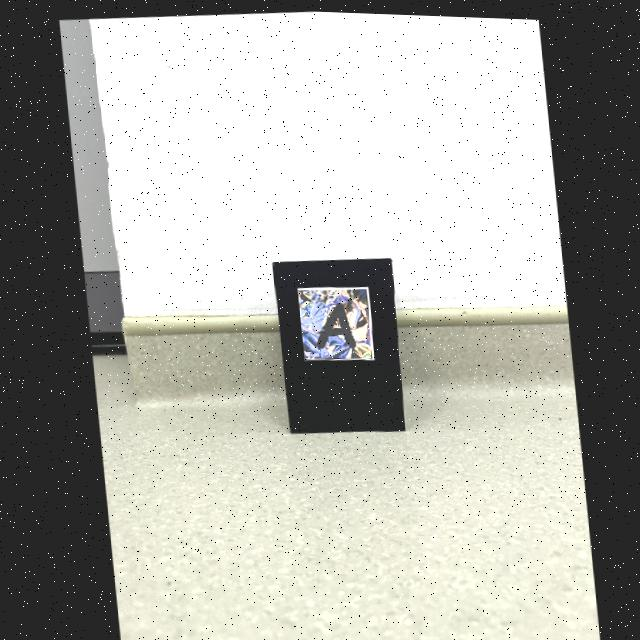A: (314, 299, 354, 347)
